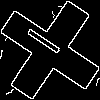I: (25, 25, 70, 62)
